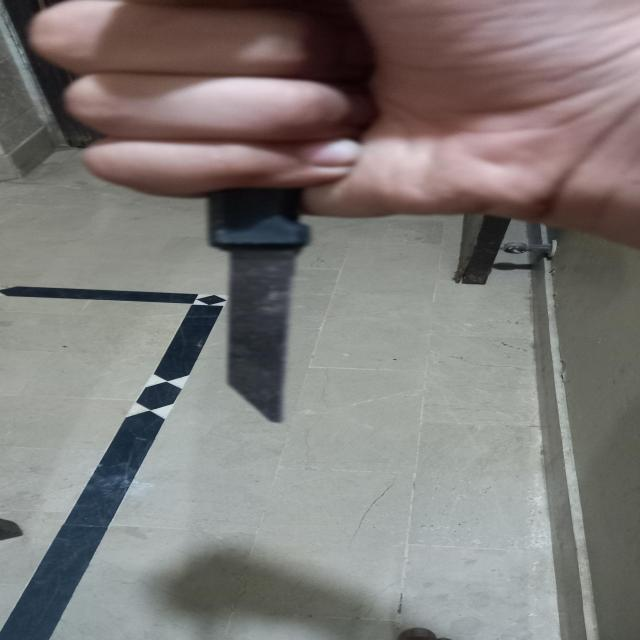Knife: (200, 186, 311, 424)
Person: (41, 0, 640, 253)
